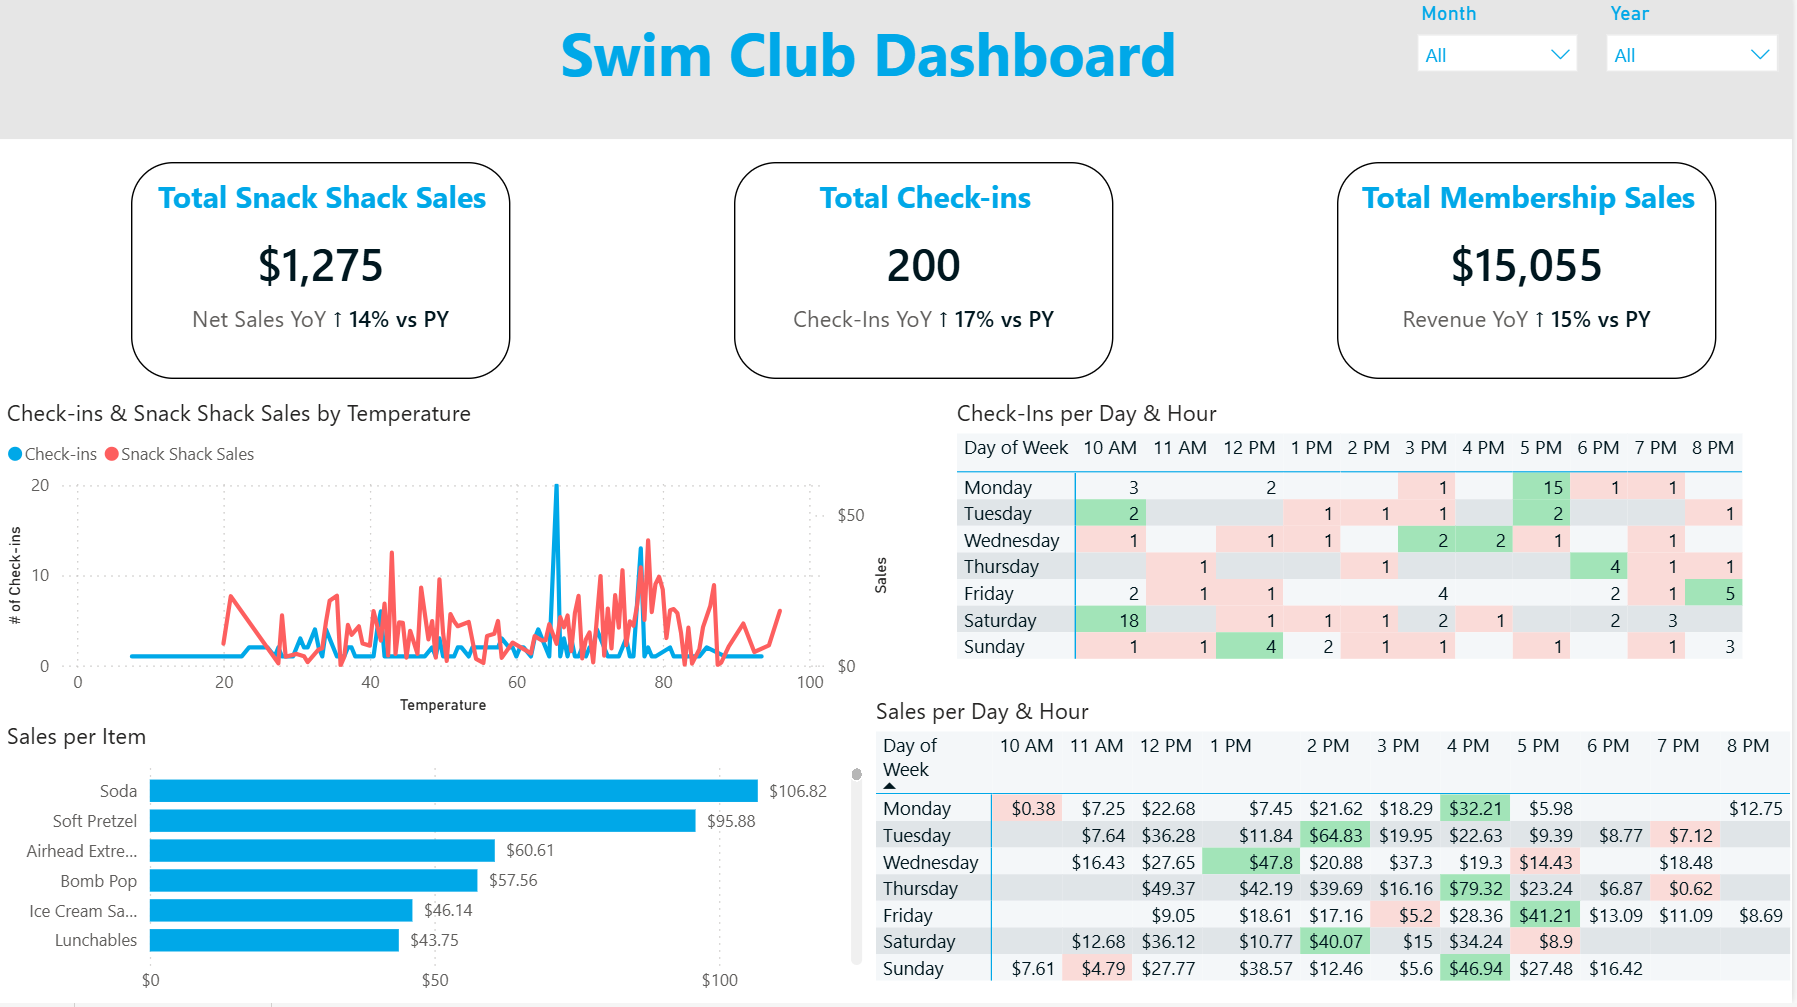

The dashboard page shown, as its layout file describes it:
{"tool":"powerbi","page":{"name":"Overview","canvas":[1280,720],"ordinal":0},"visuals":[{"type":"shape","box":[0,0,1280,102.9],"z":0},{"type":"textbox","box":[255.8,7,729.4,75.9],"z":1000},{"type":"slicer","fields":{"Values":["public date_table.year"]},"box":[1137.2,0,142.8,103.3],"z":2000},{"type":"slicer","fields":{"Values":["public date_table.month_name"]},"box":[1002.1,0,135.1,103.3],"z":3000},{"type":"cardVisual","title":"Total Check-ins","fields":{"Data":["_Measures.Total Checkins Formatted"]},"box":[524.3,119.4,271,154.6],"z":4000},{"type":"cardVisual","title":"Total Membership Sales","fields":{"Data":["_Measures.Membership Sales Display"]},"box":[955.1,119.6,271.4,154.7],"z":5000},{"type":"lineChart","title":"Check-ins & Snack Shack Sales by Temperature","fields":{"Category":["public weather.temperature (bins)"],"Y":["CountNonNull(public checkins.checkin_id)"],"Y2":["Sum(public snack_shack_sales.net_sales)"]},"box":[0,286.9,640,230.8],"z":6000},{"type":"barChart","title":"Sales per Item","fields":{"Category":["public snack_shack_sales.item"],"Y":["Sum(public snack_shack_sales.net_sales)"]},"box":[0,517.6,620.9,204],"z":7000},{"type":"pivotTable","title":"Check-Ins per Day & Hour","fields":{"Columns":["Hour_Table.hour_12hr"],"Rows":["public date_table.day_of_week"],"Values":["CountNonNull(public checkins.checkin_id)"]},"box":[678.2,286.9,603,212.9],"z":8000},{"type":"cardVisual","title":"Total Snack Shack Sales","fields":{"Data":["_Measures.Net Sales Display"]},"box":[93.4,119.4,271,154.6],"z":9000},{"type":"pivotTable","title":"Sales per Day & Hour","fields":{"Columns":["Hour_Table.hour_12hr"],"Rows":["public date_table.day_of_week"],"Values":["Sum(public snack_shack_sales.net_sales)"]},"box":[620.9,499.8,662.9,221.8],"z":10000}]}

Visuals, with their boxes in screenshot pixels (x1, y1, x2, y2), scaled from the page's 1280x720 canvas onto the 1797x1007 screenshot:
shape: pyautogui.locateOnScreen(0, 0, 1796, 144)
textbox: pyautogui.locateOnScreen(359, 10, 1383, 116)
slicer - public date_table.year: pyautogui.locateOnScreen(1597, 0, 1796, 144)
slicer - public date_table.month_name: pyautogui.locateOnScreen(1407, 0, 1597, 144)
"Total Check-ins" cardVisual: pyautogui.locateOnScreen(736, 167, 1117, 383)
"Total Membership Sales" cardVisual: pyautogui.locateOnScreen(1341, 167, 1722, 384)
"Check-ins & Snack Shack Sales by Temperature" lineChart: pyautogui.locateOnScreen(0, 401, 898, 724)
"Sales per Item" barChart: pyautogui.locateOnScreen(0, 724, 872, 1006)
"Check-Ins per Day & Hour" pivotTable: pyautogui.locateOnScreen(952, 401, 1796, 699)
"Total Snack Shack Sales" cardVisual: pyautogui.locateOnScreen(131, 167, 512, 383)
"Sales per Day & Hour" pivotTable: pyautogui.locateOnScreen(872, 699, 1796, 1006)
